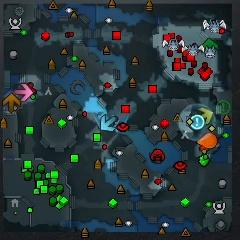Other: (216, 99, 231, 115), (189, 115, 204, 130)
p5: (198, 132, 217, 148)
x1: (15, 82, 32, 101)
x2: (198, 107, 214, 124)
x3: (100, 116, 118, 132)
x4: (203, 38, 219, 51)
x5: (3, 94, 21, 113)
